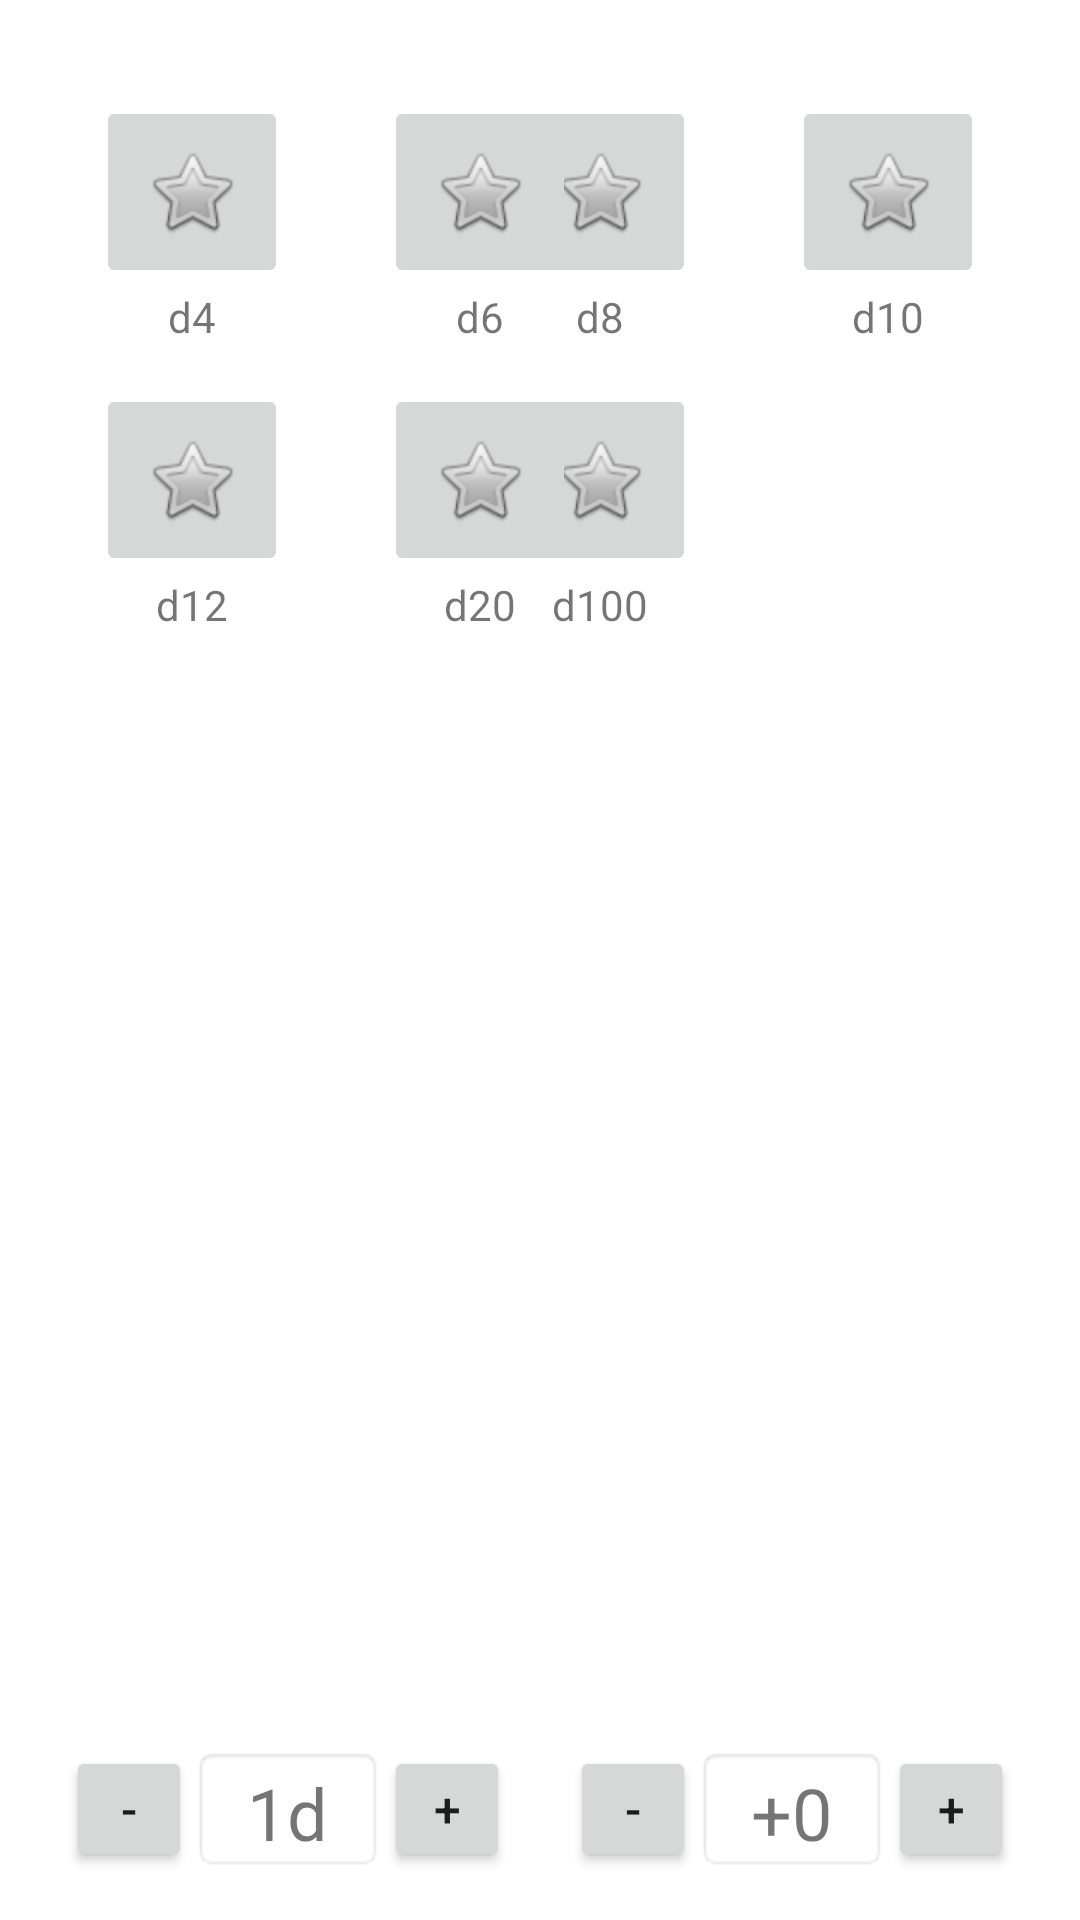

Icons on this 1080 x 1920 Android screen, each with the point to tap as point (x, y):
star: point (192, 192), point (486, 192), point (594, 192), point (888, 192), point (192, 480), point (486, 480), point (594, 480)
